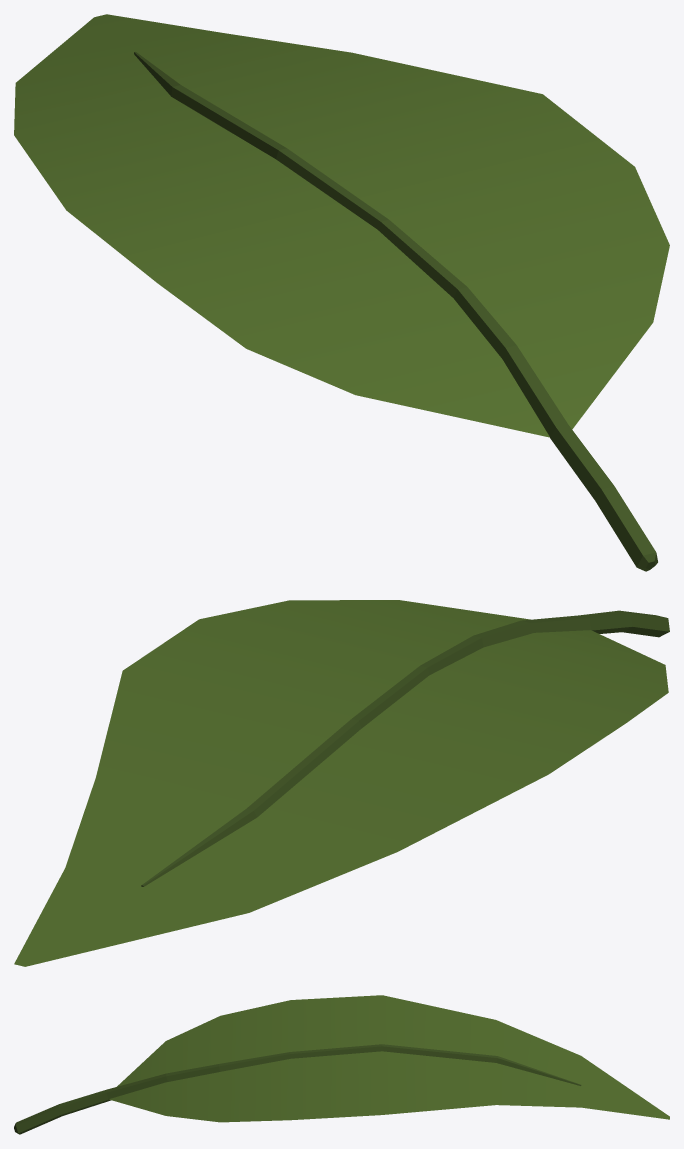
Rendered from Leaf_01.fbx.
The picture shows the model from 3 angles, top to bottom: view 1: azimuth 30°, elevation 25°; view 2: azimuth 150°, elevation 25°; view 3: azimuth 270°, elevation 25°; orthographic projection. The views are drawn at different scales.
Visible parts, largest first — view 1: Leaf_01; view 2: Leaf_01; view 3: Leaf_01.
Part boxes in pixels (bbox=[...]): Leaf_01: bbox=[14, 14, 669, 571]; Leaf_01: bbox=[14, 600, 669, 966]; Leaf_01: bbox=[14, 995, 669, 1134].
Bounding box in the file's own units: 0.0617 × 0.0207 × 0.1418.
